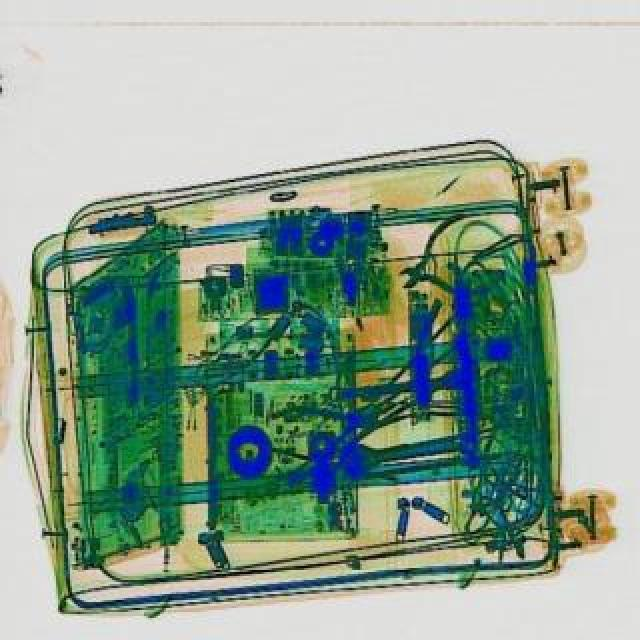scissors: (338, 422, 474, 480), (326, 366, 462, 404)
wrench: (270, 376, 414, 478), (382, 210, 494, 314)
